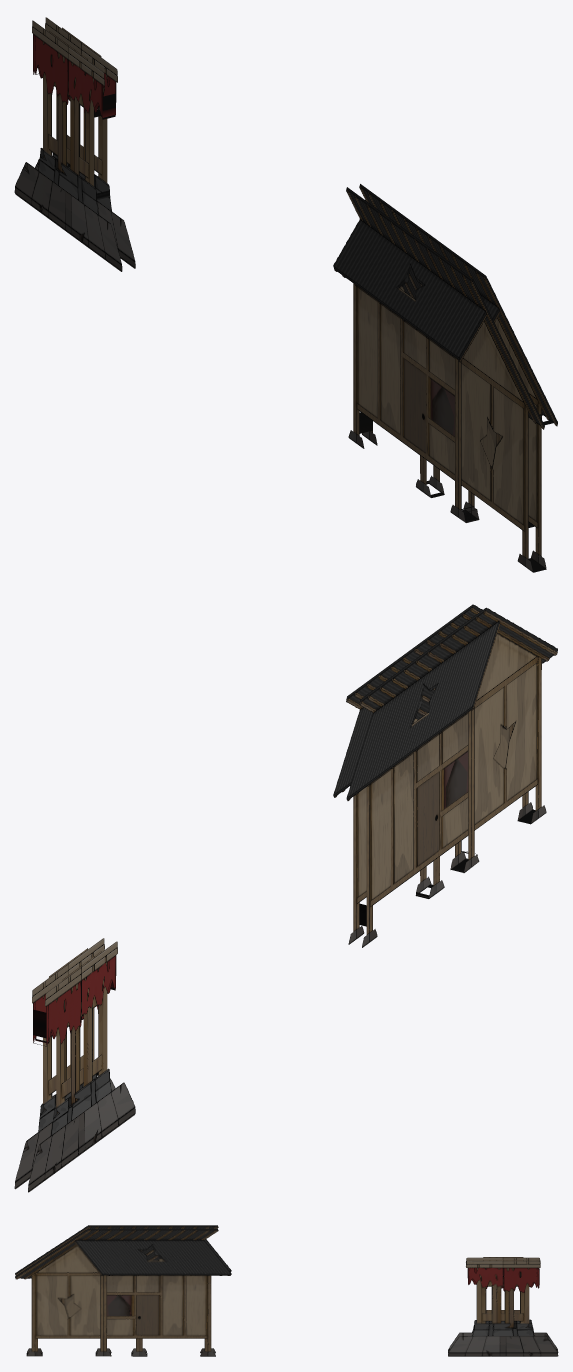
The model's file is Tower.obj.
3 renders of one model, top to bottom at view 1: azimuth 30°, elevation 25°; view 2: azimuth 150°, elevation 25°; view 3: azimuth 270°, elevation 25°, orthographic. The views are drawn at different scales.
Visible parts, largest first — view 1: Tagog2, Tower.2; view 2: Tagog2, Tower.2; view 3: Tagog2, Tower.2.
Part boxes in pixels (x1,y1,x2,y2): Tagog2: (333,184,557,572); Tower.2: (14,17,135,271); Tagog2: (333,604,557,947); Tower.2: (14,938,135,1192); Tagog2: (15,1225,231,1356); Tower.2: (448,1257,558,1356).
Bounding box in the file's own units: 0.0299 × 0.5491 × 2.08.
